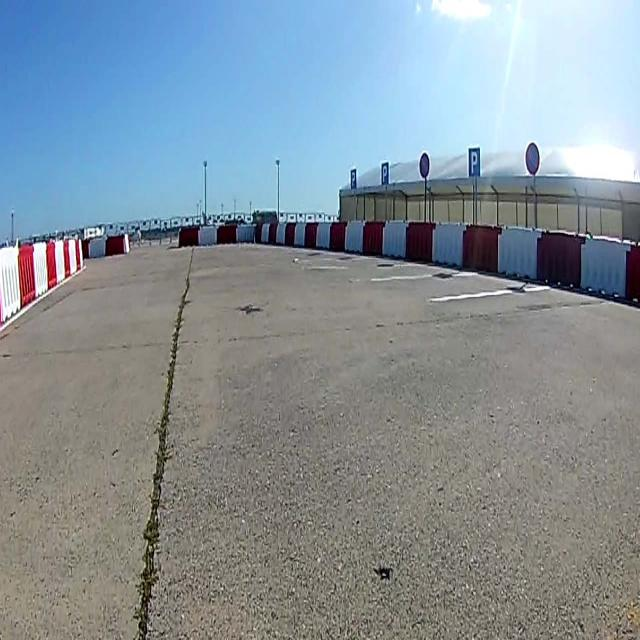park: (468, 146, 480, 178), (381, 163, 389, 185), (350, 169, 356, 189)
parkyasak: (524, 141, 540, 175), (418, 152, 430, 179)
